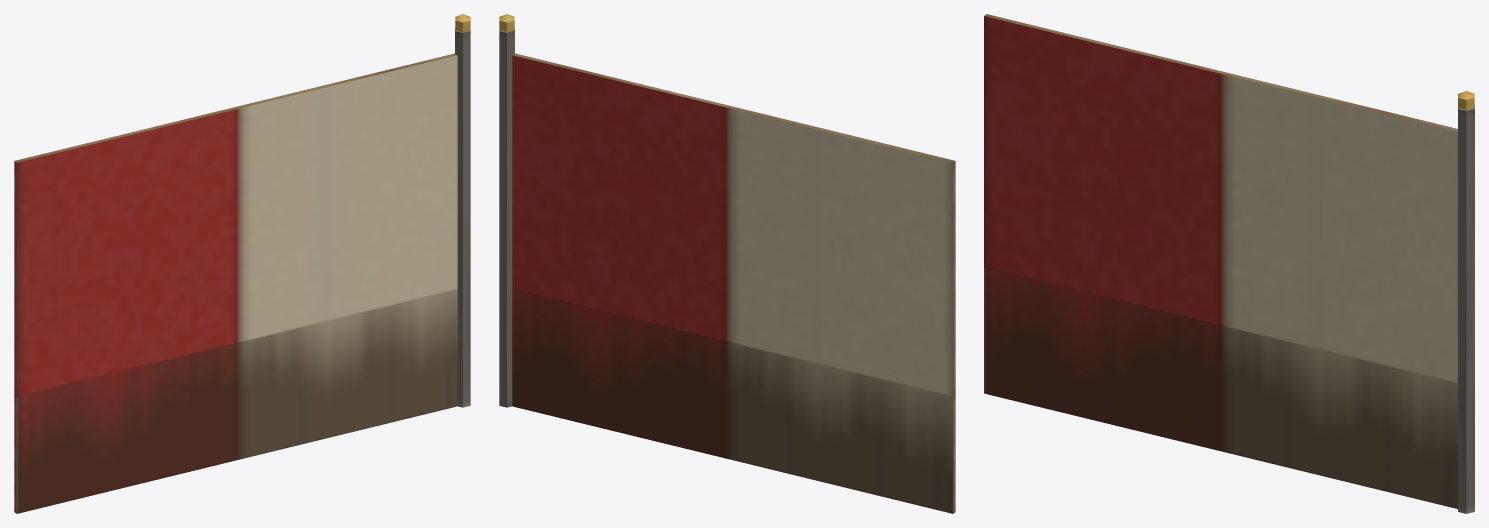
File: big_top_wall.obj
3 views of the same model, side by side, from view 1: azimuth 30°, elevation 25°; view 2: azimuth 150°, elevation 25°; view 3: azimuth 330°, elevation 25° (orthographic). The views are drawn at different scales.
Parts seen in each view (by area): view 1: big_top_wall; view 2: big_top_wall; view 3: big_top_wall.
Boxes of the visible parts, box(x1,y1,x2,y2) form: big_top_wall: box(14, 14, 470, 513); big_top_wall: box(499, 14, 955, 513); big_top_wall: box(984, 14, 1474, 513).
Size of the model in its own units: 4.07 by 3.33 by 0.1212.
1 material, 1 textured.
